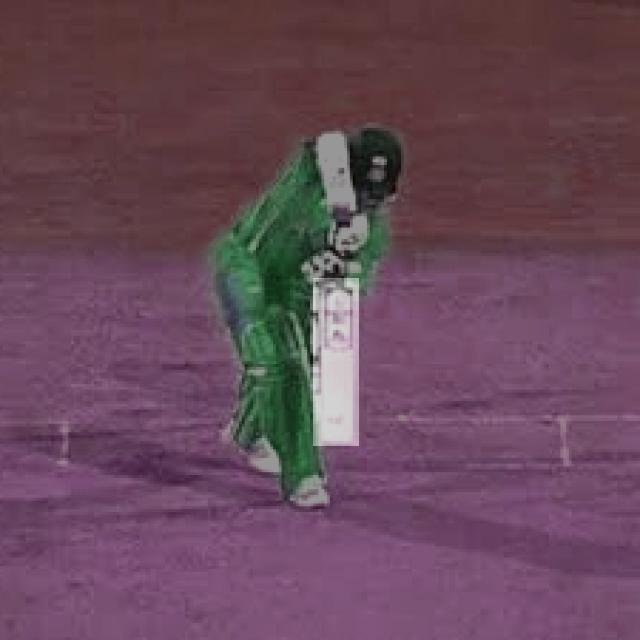bat: (313, 268, 359, 445)
toe: (311, 431, 366, 455)
